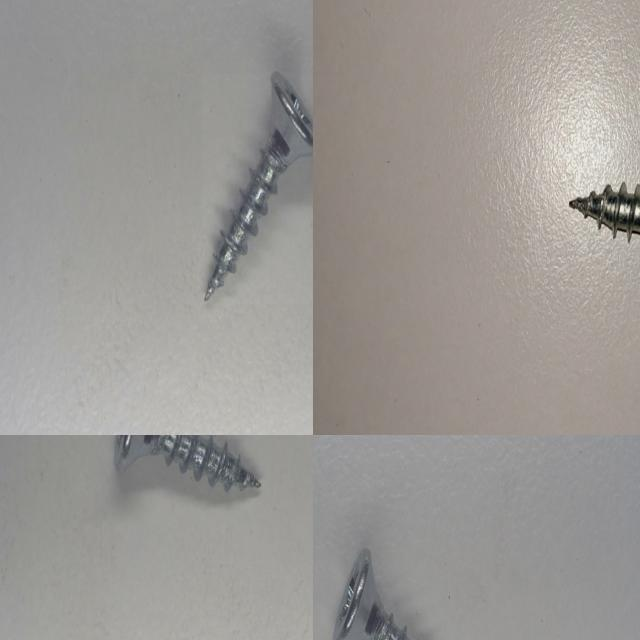Screw: (204, 71, 313, 300), (114, 435, 261, 490), (334, 547, 411, 640), (569, 182, 640, 240)
